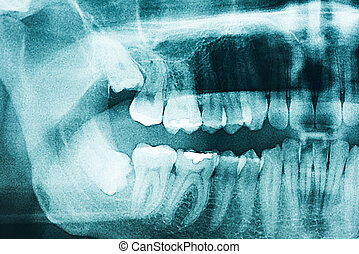canine: (236, 28, 270, 132), (258, 142, 283, 244)
incisor: (314, 23, 342, 134), (286, 33, 316, 131), (266, 31, 291, 132), (280, 135, 302, 221), (328, 137, 348, 224), (341, 37, 359, 133), (298, 136, 315, 215), (311, 134, 327, 214)
molar: (165, 149, 219, 233), (83, 30, 144, 92), (128, 140, 175, 220), (76, 137, 133, 198), (162, 49, 202, 134), (128, 42, 166, 126)
premolar: (220, 36, 251, 137), (200, 38, 228, 137), (210, 143, 241, 231), (236, 146, 262, 233)
